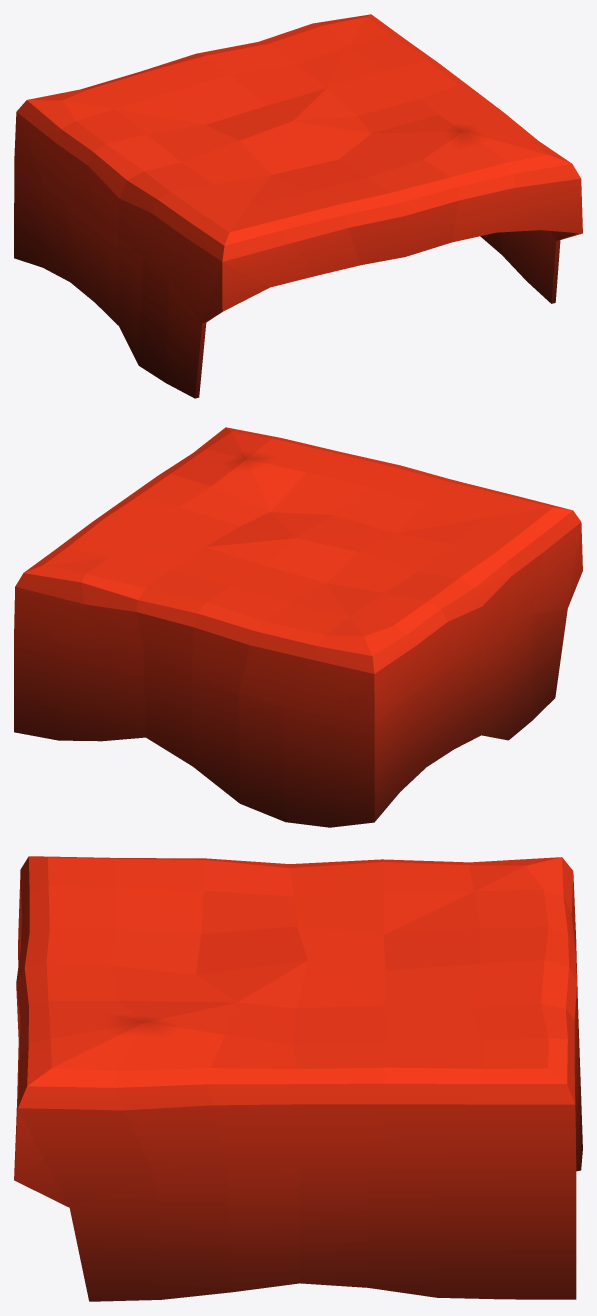
Rendered from SM_Fabric_Roof_Red.fbx.
3 renders of one model, top to bottom at view 1: azimuth 30°, elevation 25°; view 2: azimuth 150°, elevation 25°; view 3: azimuth 270°, elevation 25°, orthographic. The views are drawn at different scales.
Parts seen in each view (by area): view 1: Market_Fabric_Roof_Red_M2_Mash; view 2: Market_Fabric_Roof_Red_M2_Mash; view 3: Market_Fabric_Roof_Red_M2_Mash.
Boxes of the visible parts, <box> form: Market_Fabric_Roof_Red_M2_Mash: <box>14,14,582,398</box>; Market_Fabric_Roof_Red_M2_Mash: <box>14,427,582,827</box>; Market_Fabric_Roof_Red_M2_Mash: <box>14,856,582,1301</box>.
Size of the model in its own units: 3.53 by 1.77 by 3.53.
